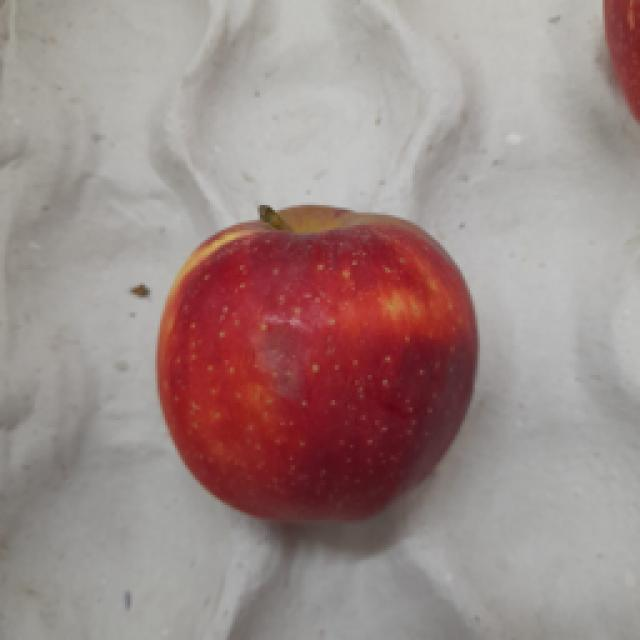Fresh_Apple: (142, 189, 494, 546)
